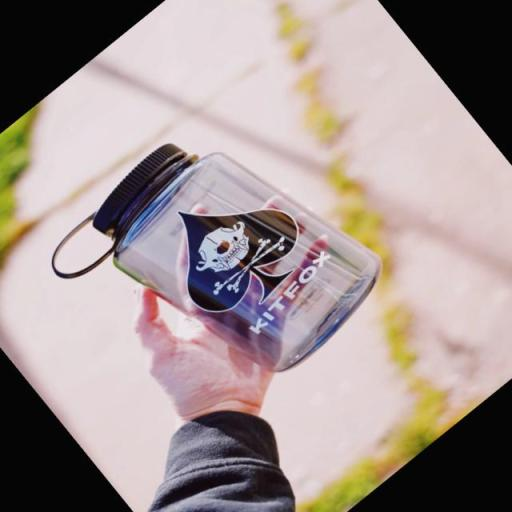bottle: (30, 76, 405, 450)
